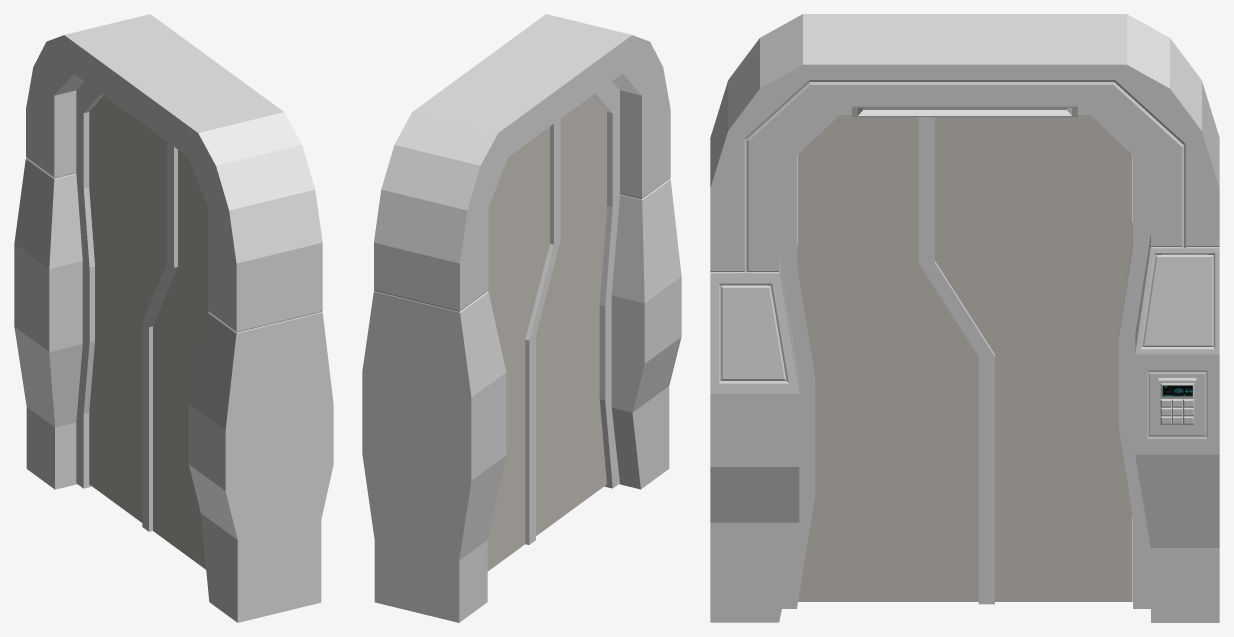
Rendered from Door.fbx.
3 views of the same model, side by side, from view 1: azimuth 30°, elevation 25°; view 2: azimuth 150°, elevation 25°; view 3: azimuth 270°, elevation 25° (orthographic). The views are drawn at different scales.
Visible parts, largest first — view 1: DOORFRAMEBIG.001, DOOR.001, DOORFRAMESMALL.001; view 2: DOORFRAMEBIG.001, DOOR.001, DOORFRAMESMALL.001; view 3: DOOR.001, DOORFRAMEBIG.001, DOORFRAMESMALL.001, LIGHT.001, KEYPAD.001.
Part boxes in pixels (x1=…): DOORFRAMEBIG.001: x1=14, y1=14, x2=333, y2=622; DOOR.001: x1=89, y1=95, x2=208, y2=569; DOORFRAMESMALL.001: x1=76, y1=81, x2=103, y2=488; DOORFRAMEBIG.001: x1=362, y1=14, x2=681, y2=622; DOOR.001: x1=487, y1=95, x2=606, y2=571; DOORFRAMESMALL.001: x1=593, y1=81, x2=620, y2=488; DOOR.001: x1=797, y1=115, x2=1132, y2=604; DOORFRAMEBIG.001: x1=710, y1=14, x2=1219, y2=622; DOORFRAMESMALL.001: x1=779, y1=102, x2=1150, y2=608; LIGHT.001: x1=852, y1=102, x2=1077, y2=117; KEYPAD.001: x1=1158, y1=378, x2=1196, y2=427.
Size of the model in its own units: 959 by 3037 by 3675.
